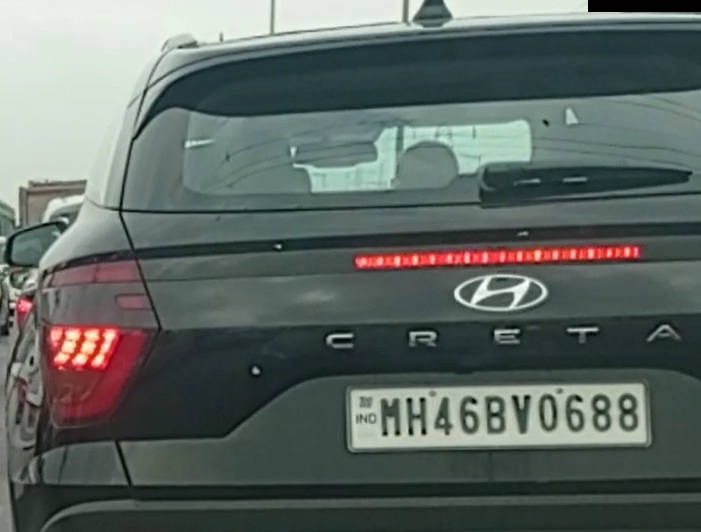MH46BV0688: (347, 386, 655, 450)
